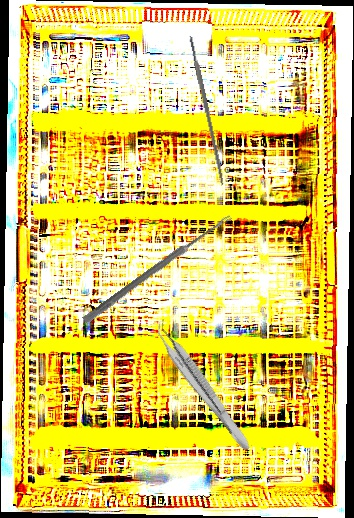Scalpel Handle: (188, 34, 226, 186)
Surgical Spoon: (82, 212, 233, 325)
Tissue Forceps: (147, 317, 260, 454)
